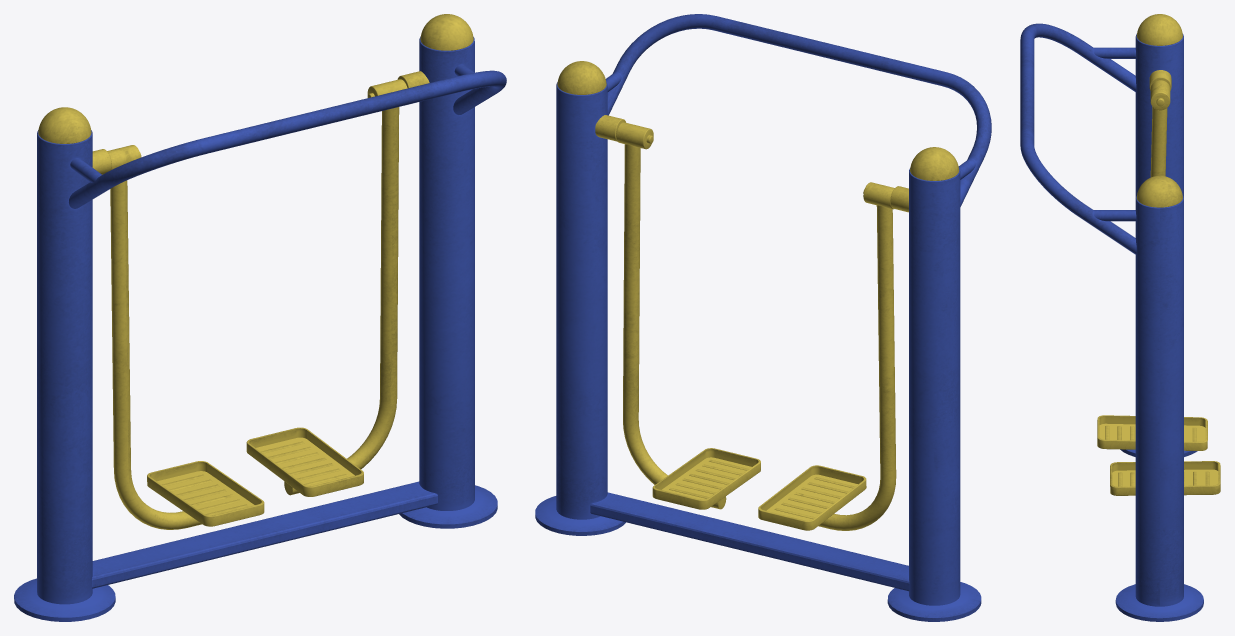
The model's file is gym_equipment_2.glb.
3 renders of one model, left to right at view 1: azimuth 30°, elevation 25°; view 2: azimuth 150°, elevation 25°; view 3: azimuth 270°, elevation 25°, orthographic. The views are drawn at different scales.
Visible parts, largest first — view 1: gym2; view 2: gym2; view 3: gym2.
Boxes of the visible parts, x1=… form: gym2: x1=14, y1=14, x2=506, y2=621; gym2: x1=535, y1=14, x2=991, y2=621; gym2: x1=1020, y1=14, x2=1220, y2=621.
Bounding box in the file's own units: 0.6139 × 0.6264 × 0.261.
Materials: 1 (1 with a texture image).
